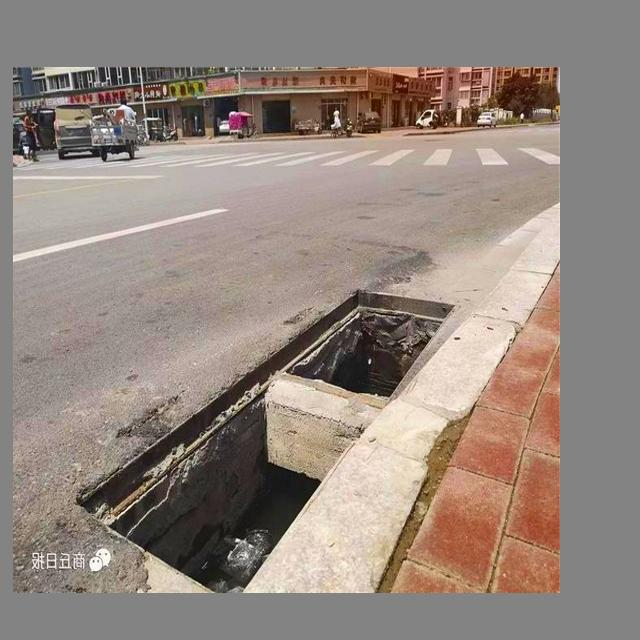lose: (74, 281, 472, 587)
